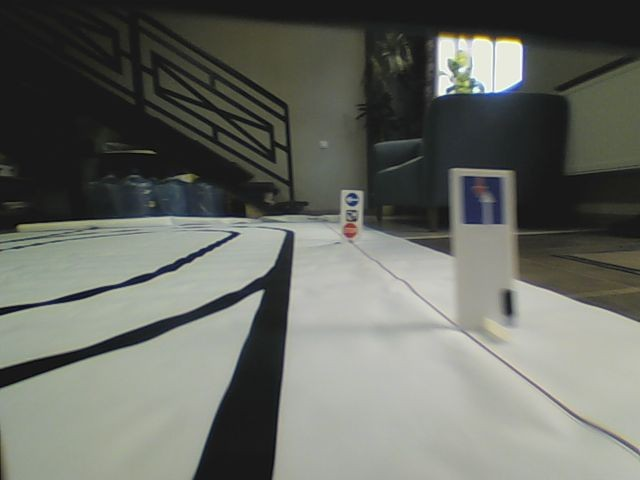priority_movement: (461, 174, 507, 228)
